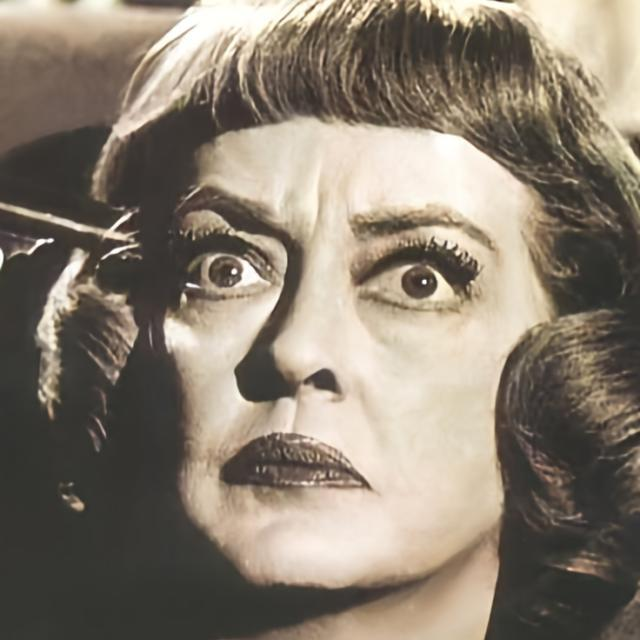fear: (146, 66, 570, 596)
